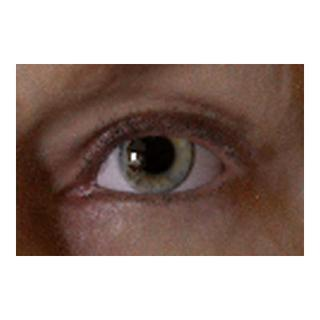pupil: (134, 133, 175, 174)
